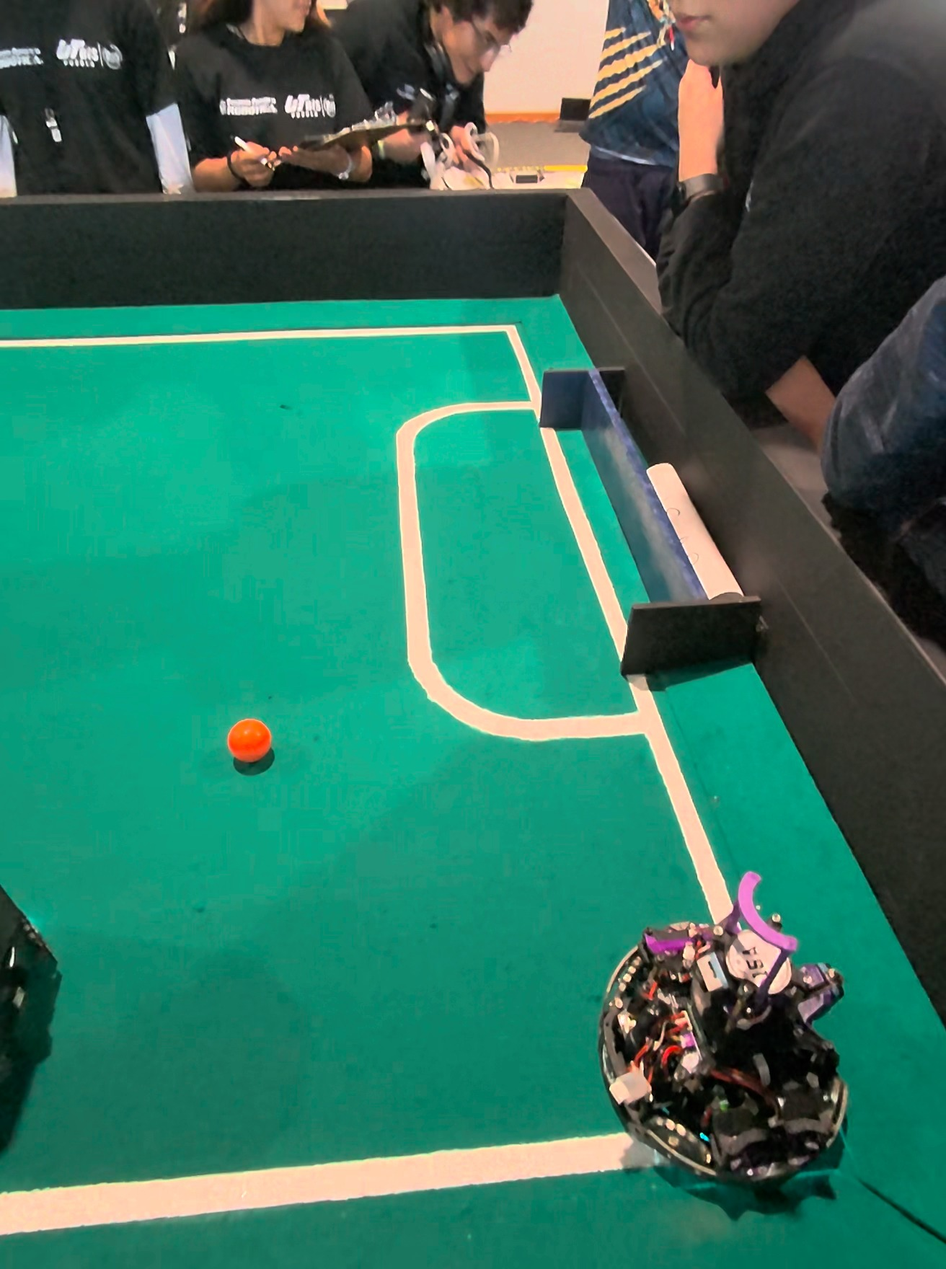Robot: (584, 889, 852, 1222), (0, 790, 67, 1162)
pelota: (227, 722, 274, 775)
